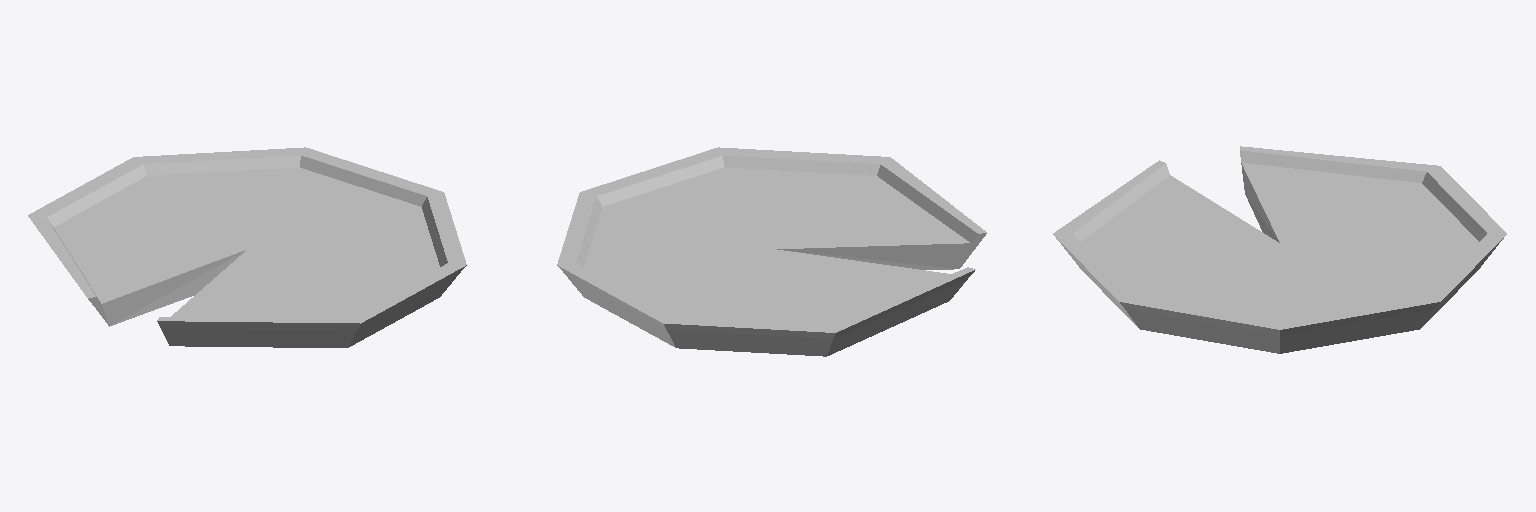
Rendered from LillyPad.obj.
The picture shows the model from 3 angles: view 1: azimuth 30°, elevation 25°; view 2: azimuth 150°, elevation 25°; view 3: azimuth 270°, elevation 25°; orthographic projection.
Size of the model in its own units: 5.94 by 0.5385 by 6.21.